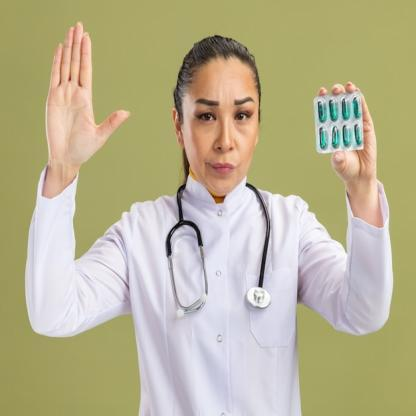stop: (44, 19, 132, 170)
